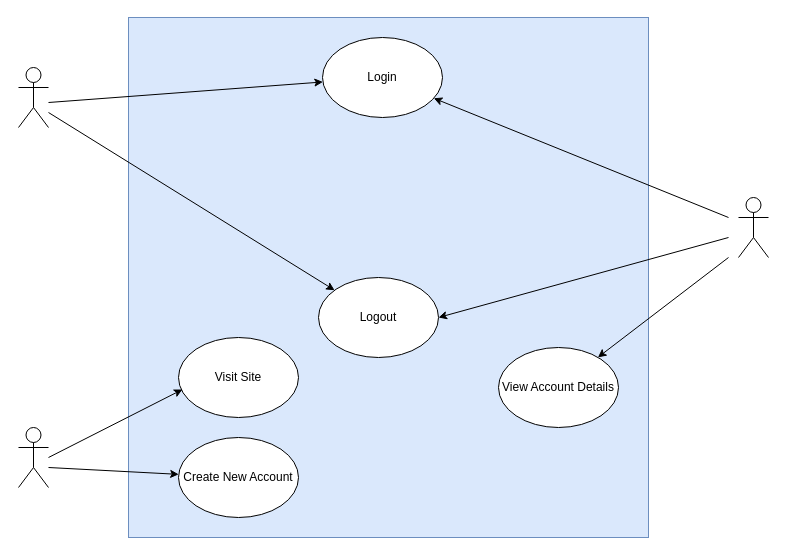
Some shapes in this 797 by 555 pixel diagram are drawn without their labels. The centre of each missing label's shape, as x and y in pixels:
Customer: point 753,227
Editor: point 33,97
Visitor: point 33,457
